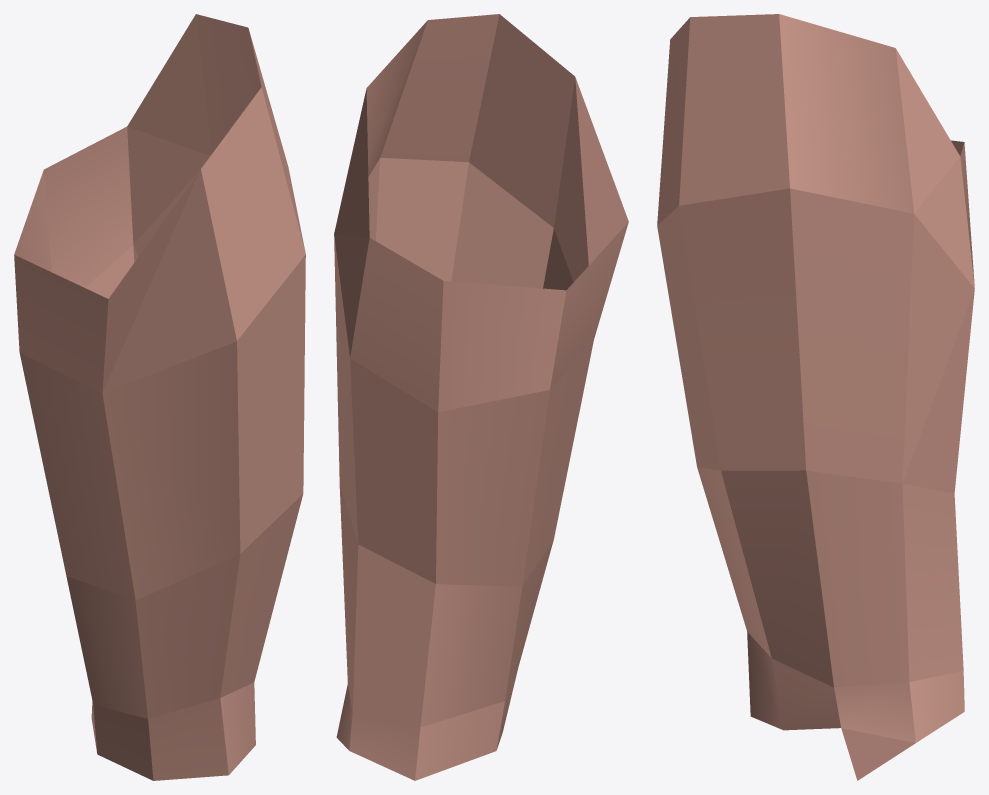
The model's file is cutrmumlthigh.fbx.
3 renders of one model, left to right at view 1: azimuth 30°, elevation 25°; view 2: azimuth 150°, elevation 25°; view 3: azimuth 270°, elevation 25°, orthographic. The views are drawn at different scales.
Visible parts, largest first — view 1: mum.016; view 2: mum.016; view 3: mum.016.
Part boxes in pixels (<box>): mum.016: <box>14,14,305,780</box>; mum.016: <box>334,14,628,780</box>; mum.016: <box>657,14,974,780</box>.
Size of the model in its own units: 19.33 by 57.61 by 22.09.
